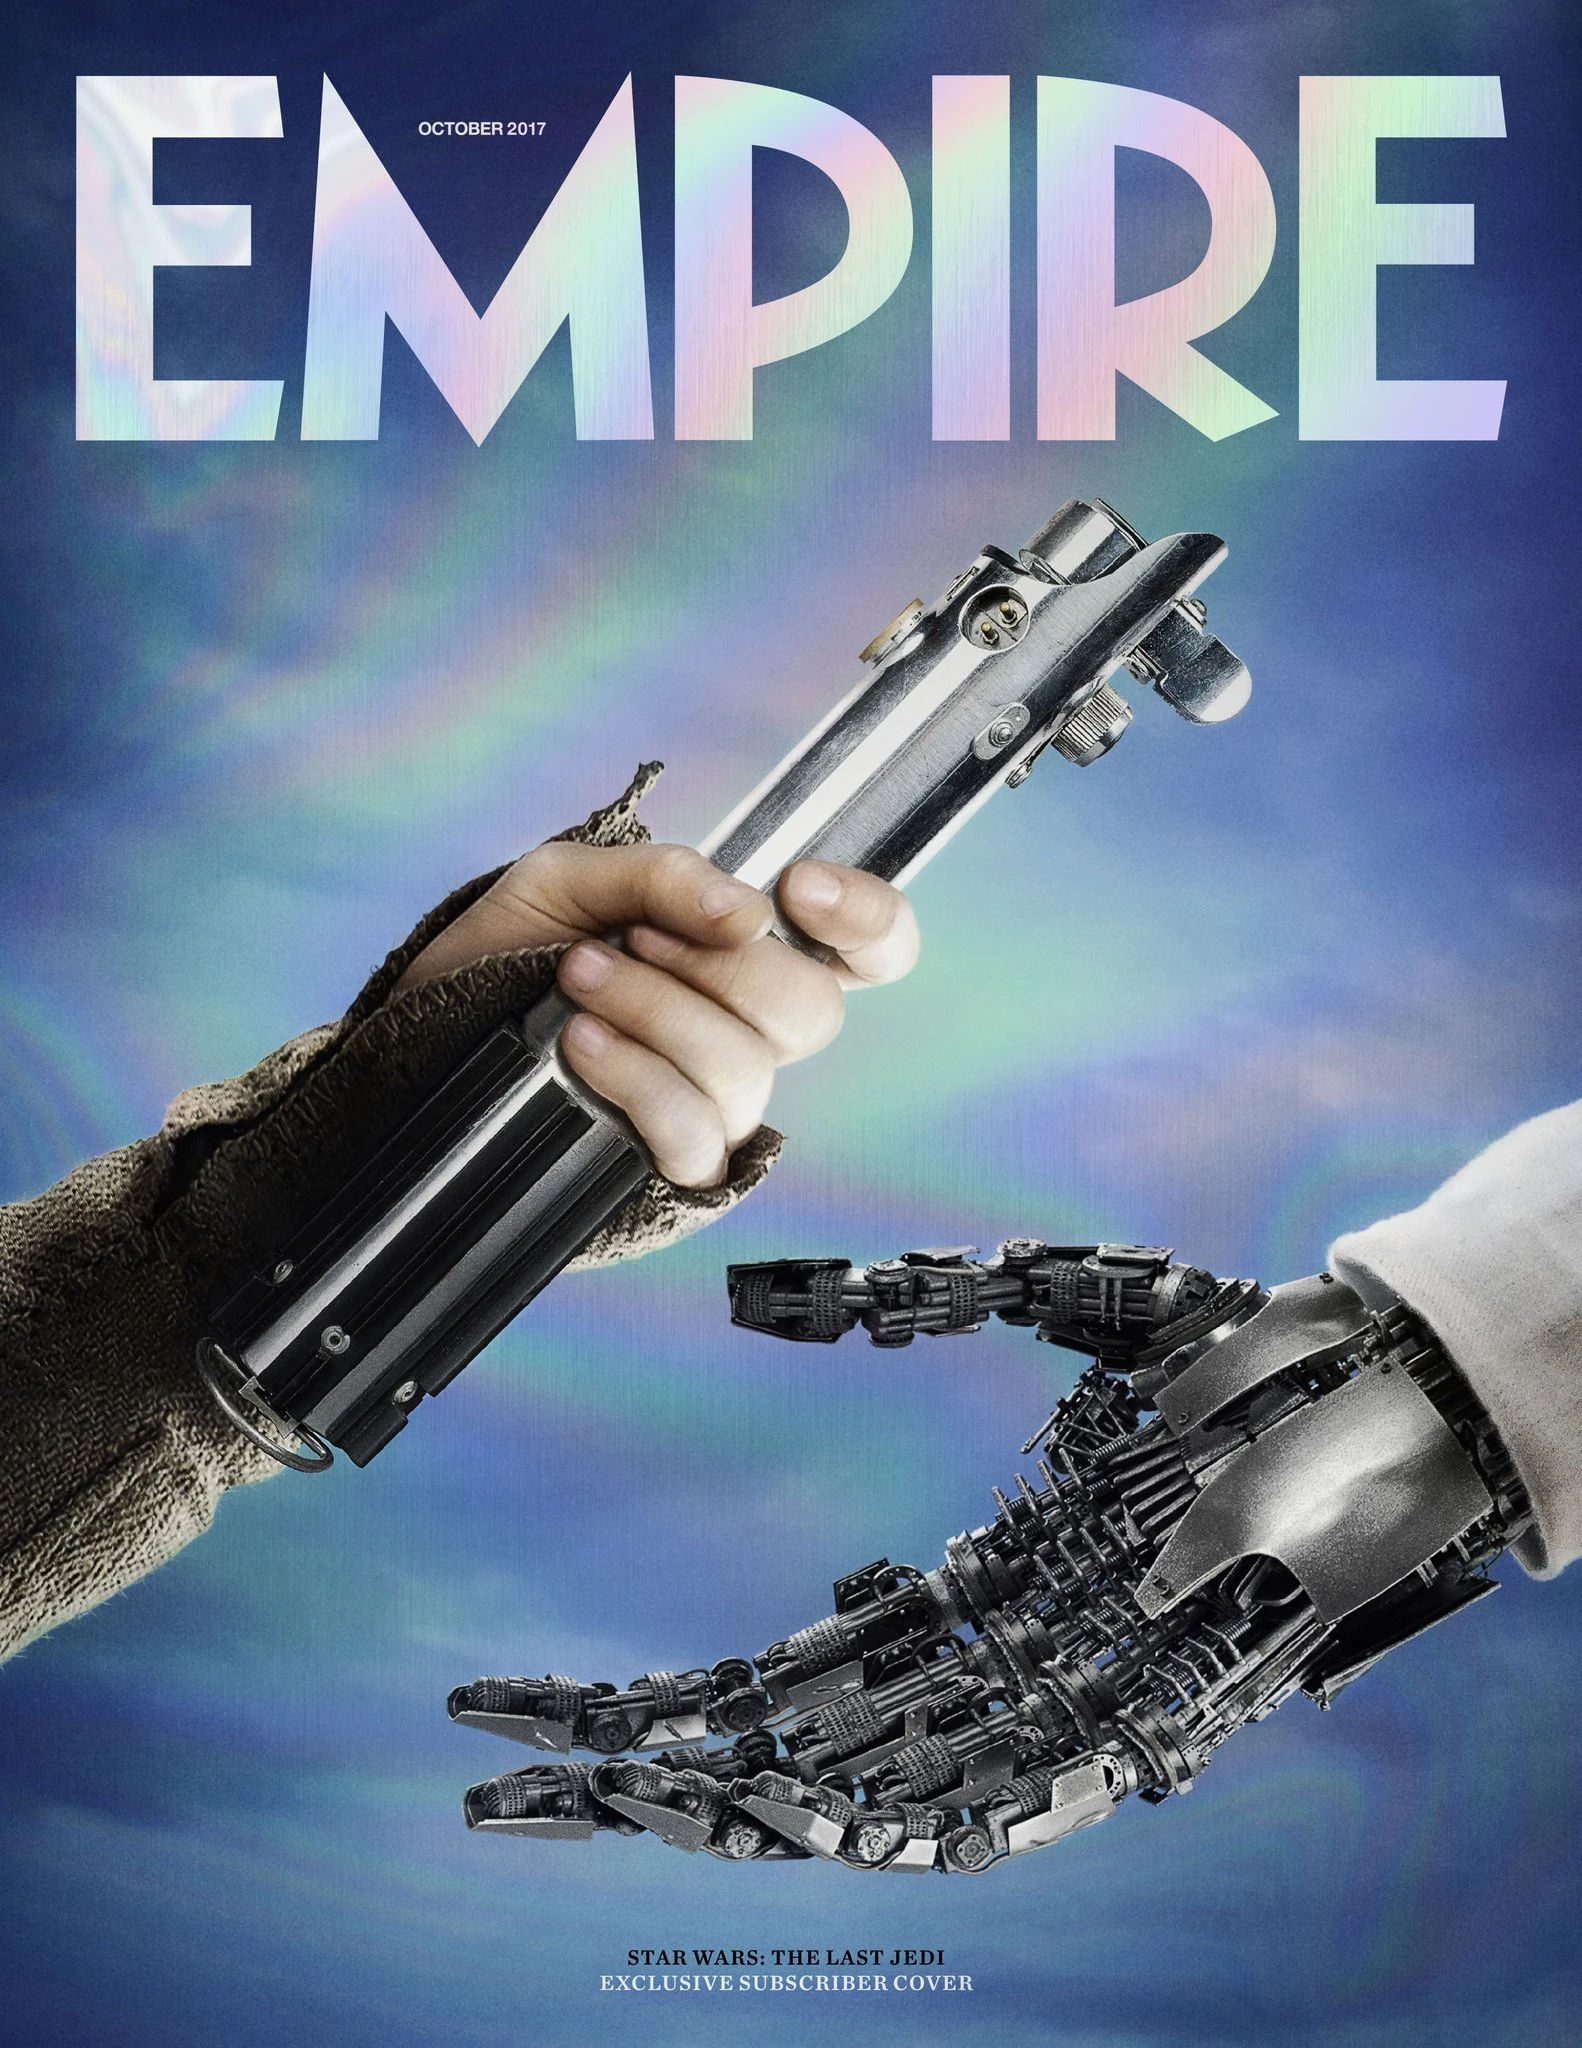Dalek: (196, 483, 1273, 1502)
